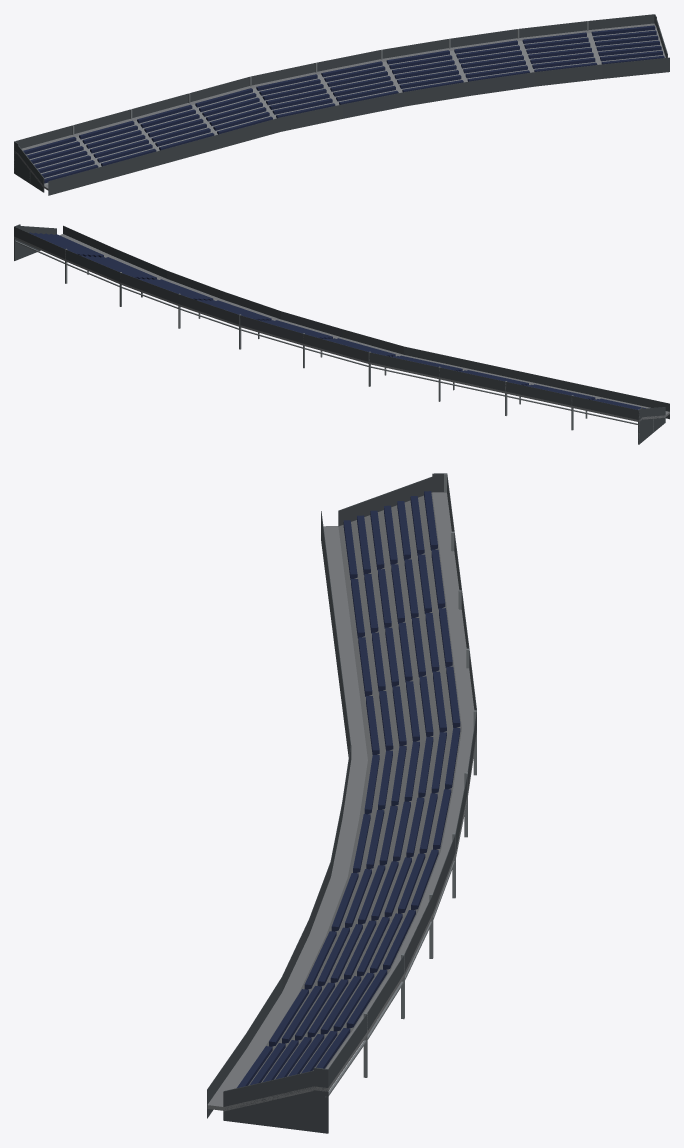
Rendered from sil_stand_copse_a_front.glb.
The picture shows the model from 3 angles, top to bottom: view 1: azimuth 30°, elevation 25°; view 2: azimuth 150°, elevation 25°; view 3: azimuth 270°, elevation 25°; orthographic projection. The views are drawn at different scales.
Parts seen in each view (by area): view 1: silverstone-copse-a-front; view 2: silverstone-copse-a-front; view 3: silverstone-copse-a-front.
Part boxes in pixels (<box>): silverstone-copse-a-front: <box>14,14,669,195</box>; silverstone-copse-a-front: <box>14,224,669,444</box>; silverstone-copse-a-front: <box>207,473,476,1133</box>.
Bounding box in the file's own units: 84.08 × 4.2 × 16.09.
